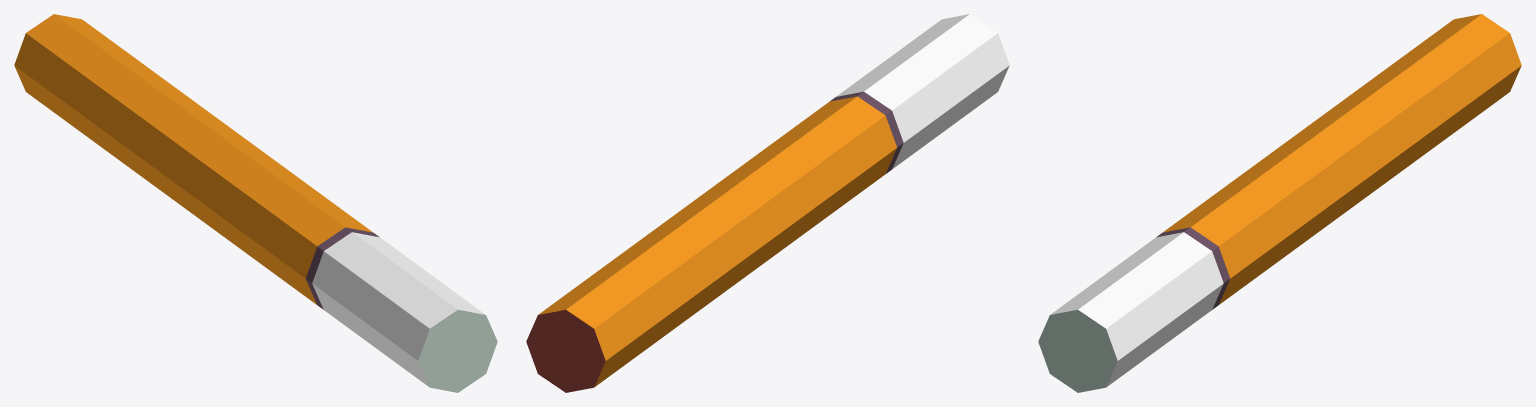
Rendered from cigarette.fbx.
3 views of the same model, side by side, from view 1: azimuth 30°, elevation 25°; view 2: azimuth 150°, elevation 25°; view 3: azimuth 330°, elevation 25° (orthographic).
Visible parts, largest first — view 1: Cylinder; view 2: Cylinder; view 3: Cylinder.
Boxes of the visible parts, left/top/right/bottom form: Cylinder: left=14, top=14, right=497, bottom=392; Cylinder: left=526, top=14, right=1009, bottom=392; Cylinder: left=1038, top=14, right=1521, bottom=392.
Size of the model in its own units: 200 by 200 by 1759.
1 material, 1 textured.
